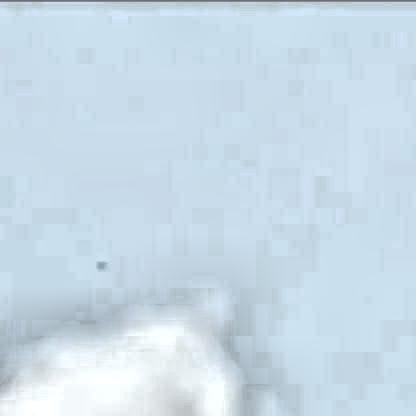golfball: (93, 258, 104, 268)
